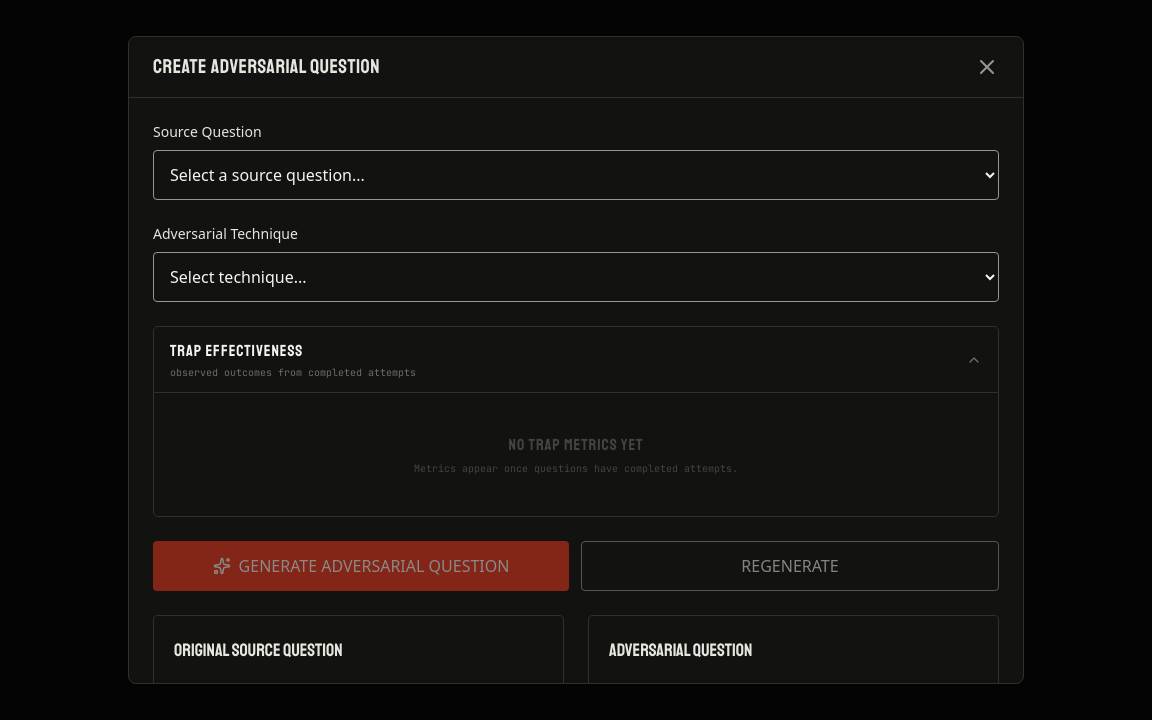
Scenario: AdversarialQuestionModal — Regenerate › clears validationResult after a successful regenerate
Select "Reverse a linked list" in the dropdown labelled "Source Question" at (576,175), box x1=153 y1=150 x2=999 y2=200
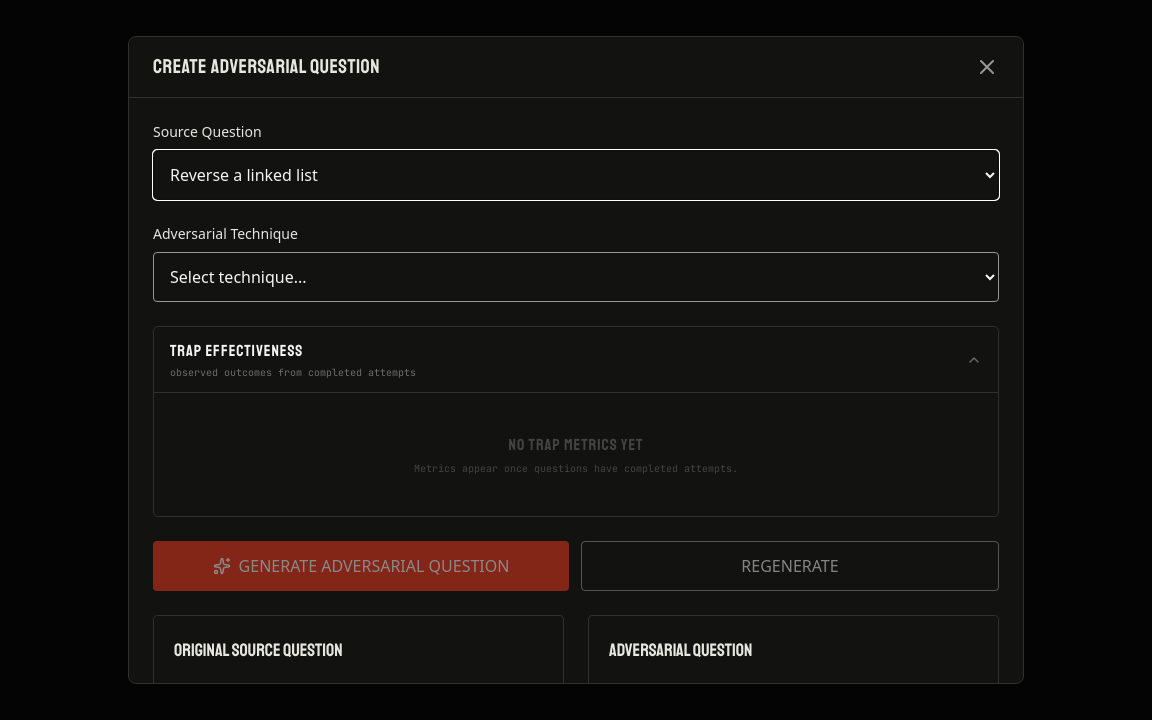
Select "Off-by-one trap" in the dropdown labelled "Adversarial Technique" at (576,277), box x1=153 y1=252 x2=999 y2=302
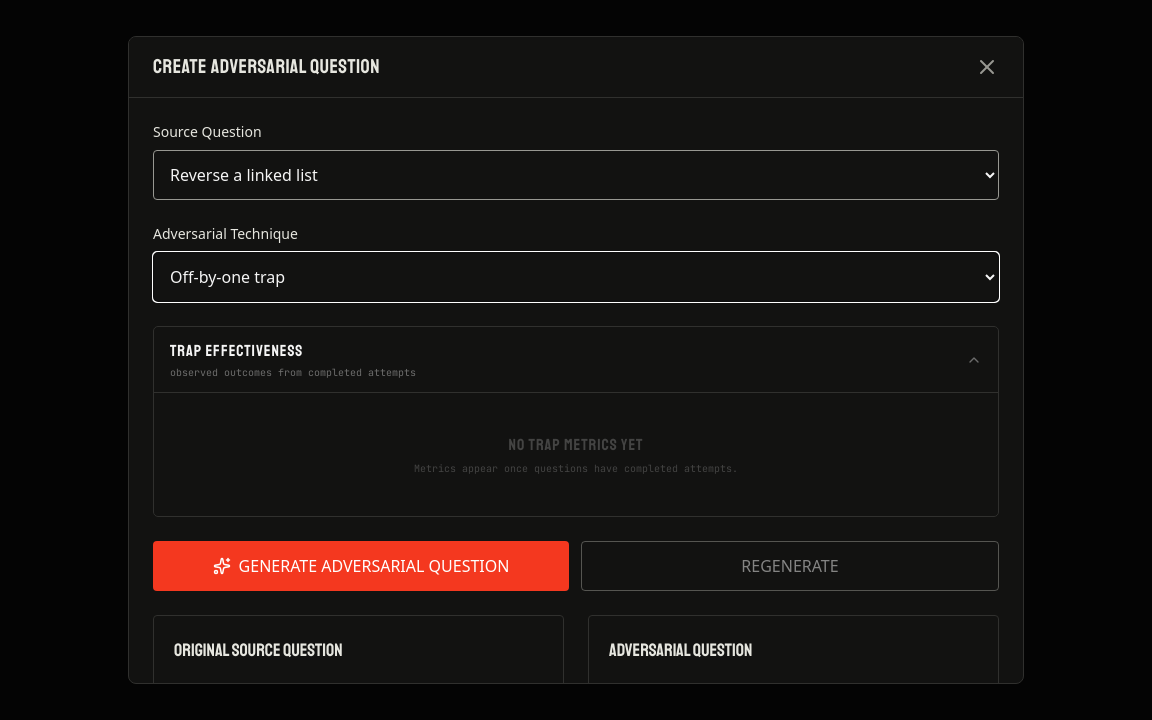
Click the button "GENERATE ADVERSARIAL QUESTION" at (361,566), box x1=153 y1=541 x2=569 y2=591
(page scrolled)
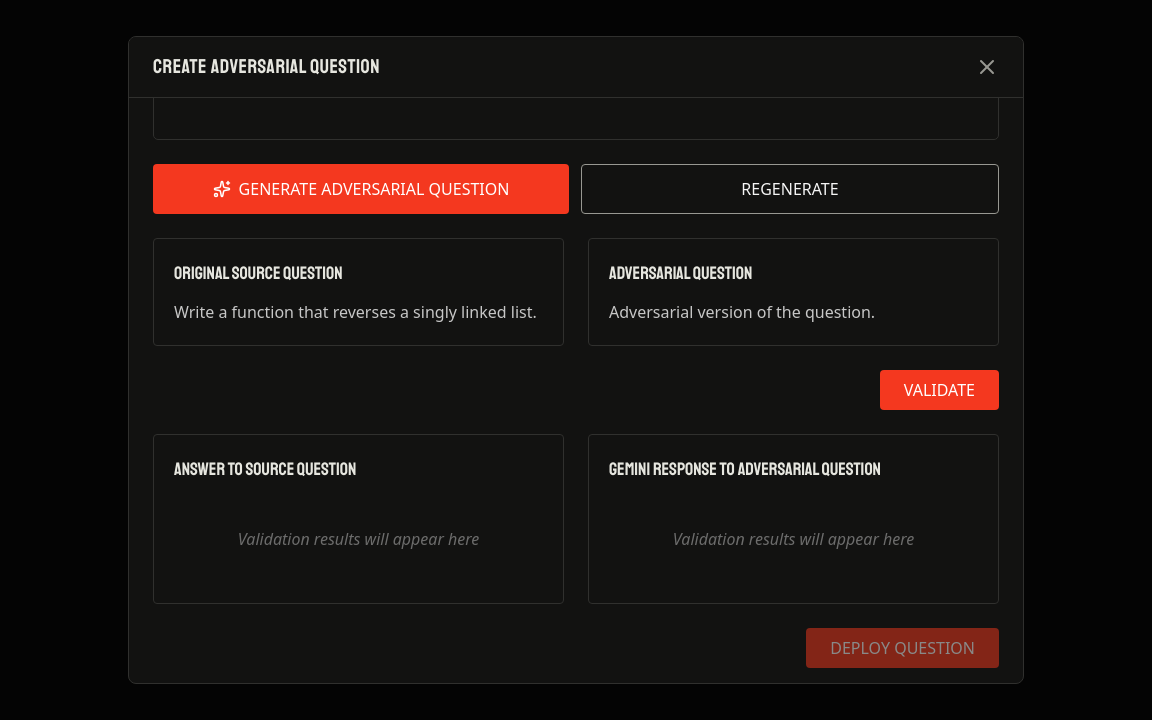
Check: the button "VALIDATE" is enabled
Click the button "VALIDATE" at (939,390), box x1=880 y1=370 x2=999 y2=410
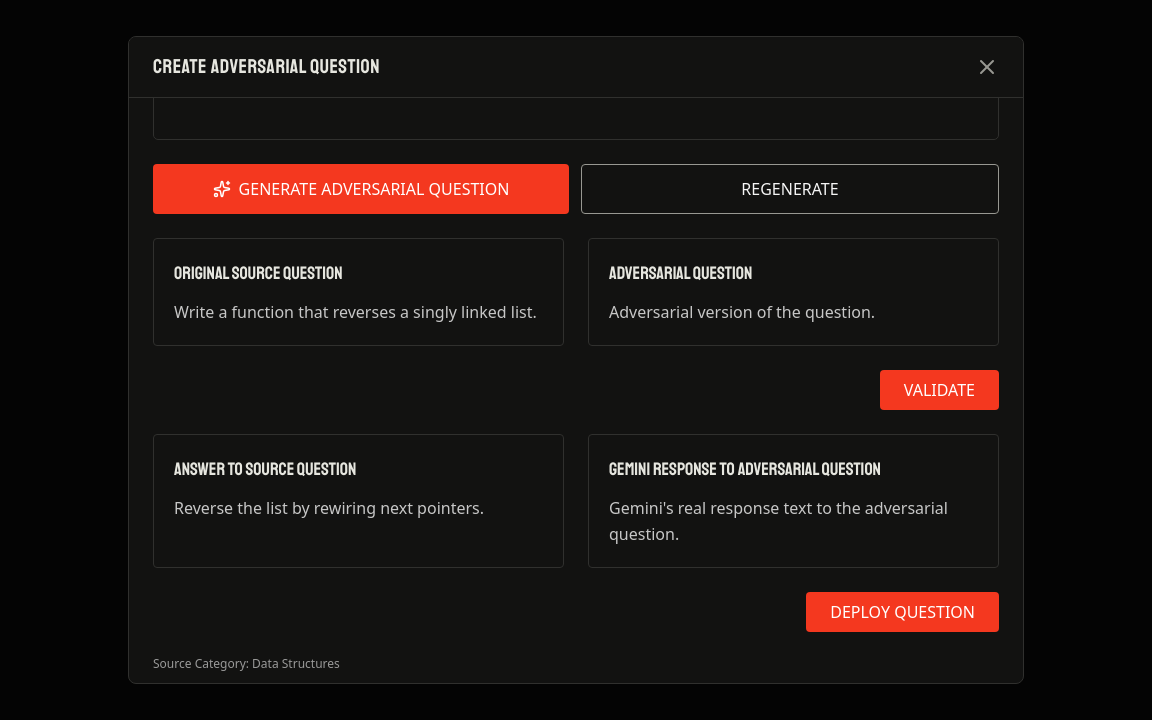
Check: the button "DEPLOY QUESTION" is enabled, box x1=806 y1=592 x2=999 y2=632
Check: the text "Reverse the list by rewiring next pointers." is shown, box x1=174 y1=497 x2=484 y2=519
Click the button "REGENERATE" at (790,189), box x1=581 y1=164 x2=999 y2=214
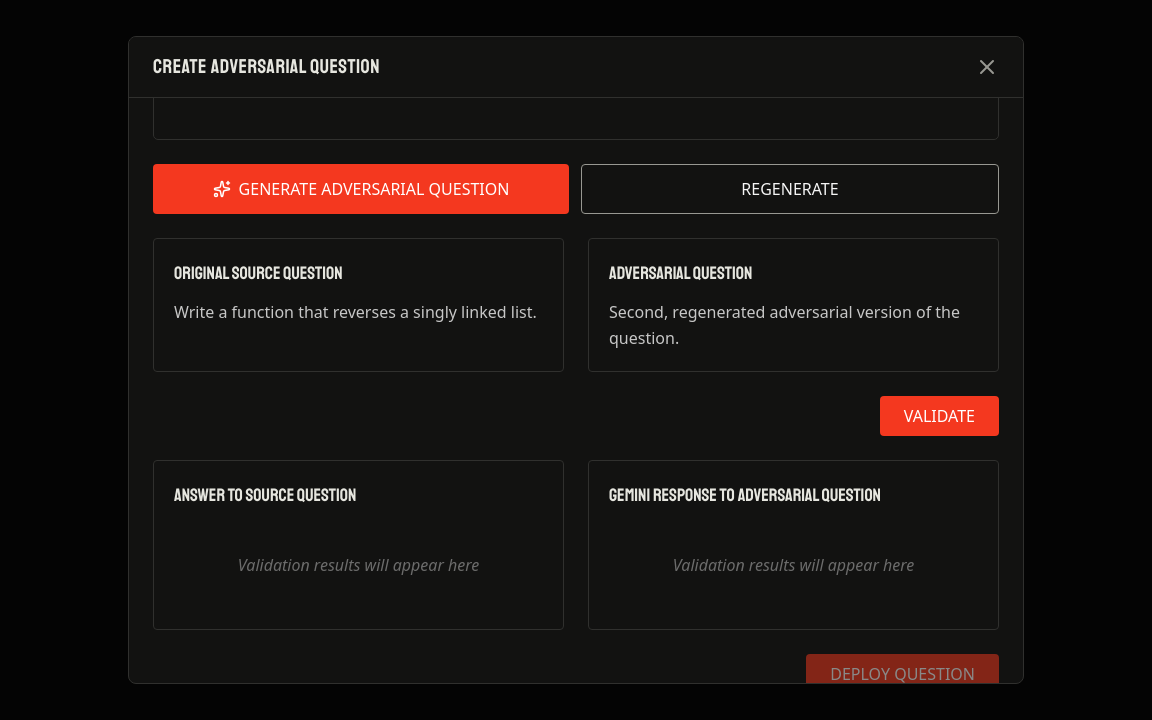
Check: the text "Reverse the list by rewiring next pointers." is gone
Check: the text "Gemini's real response text to the adversarial question." is gone
Check: the button "DEPLOY QUESTION" is disabled, box x1=806 y1=654 x2=999 y2=683
